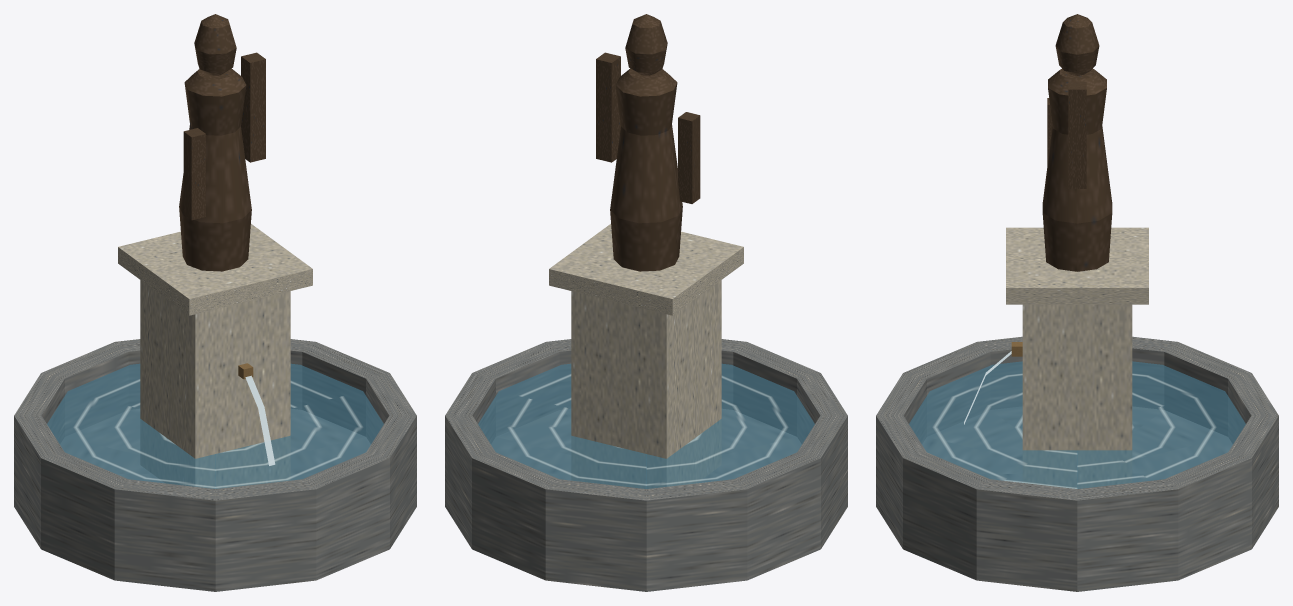
Rendered from brunnen_v6.glb.
3 renders of one model, left to right at view 1: azimuth 30°, elevation 25°; view 2: azimuth 150°, elevation 25°; view 3: azimuth 270°, elevation 25°, orthographic.
Visible parts, largest first — view 1: V6; view 2: V6; view 3: V6.
Part boxes in pixels (left/top/right/bottom): V6: left=14, top=14, right=416, bottom=591; V6: left=445, top=14, right=847, bottom=591; V6: left=876, top=14, right=1278, bottom=591.
Bounding box in the file's own units: 2.2 × 2.97 × 2.2.
Materials: 2 (2 with a texture image).
